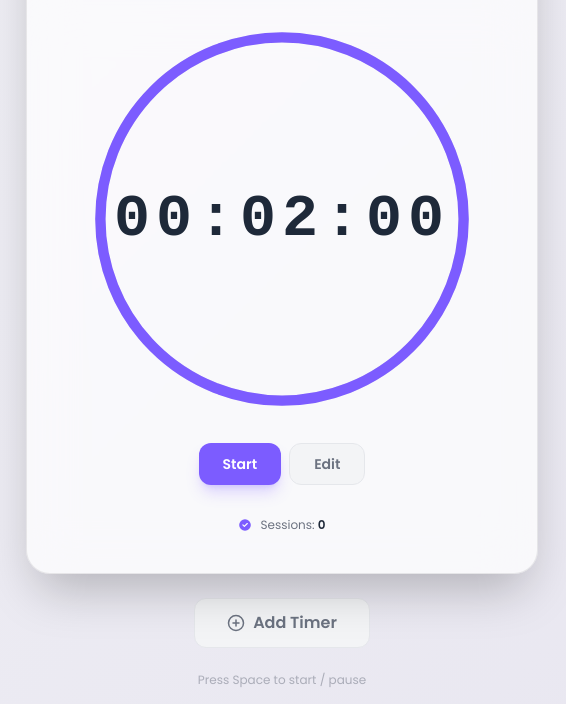
Focus Timer › Start Timer › should show Pause and Reset buttons after starting
(page scrolled)
Click the button "Start": (240, 464) [199,443,281,485]
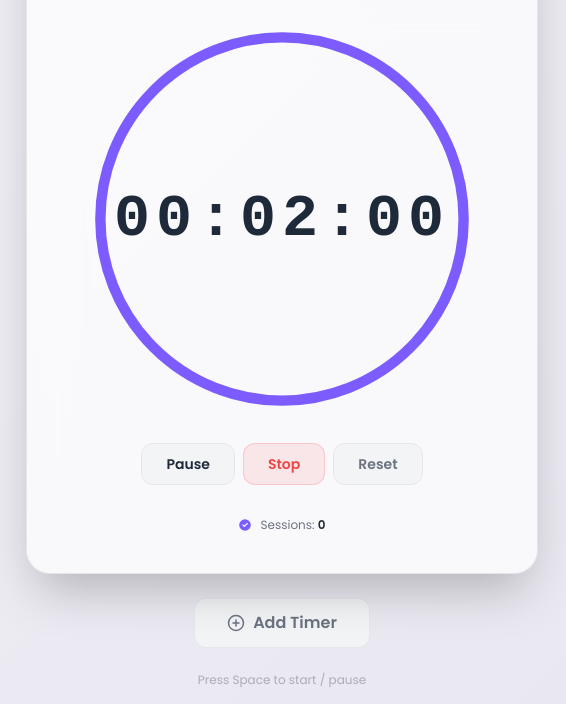
Now the button "Pause" is shown, box [141,443,235,485]
Now the button "Reset" is shown, box [333,443,423,485]
